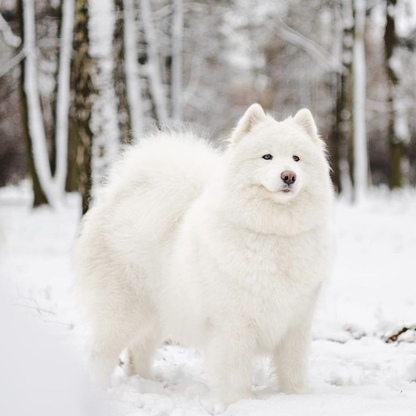samoyed: (64, 100, 339, 406)
